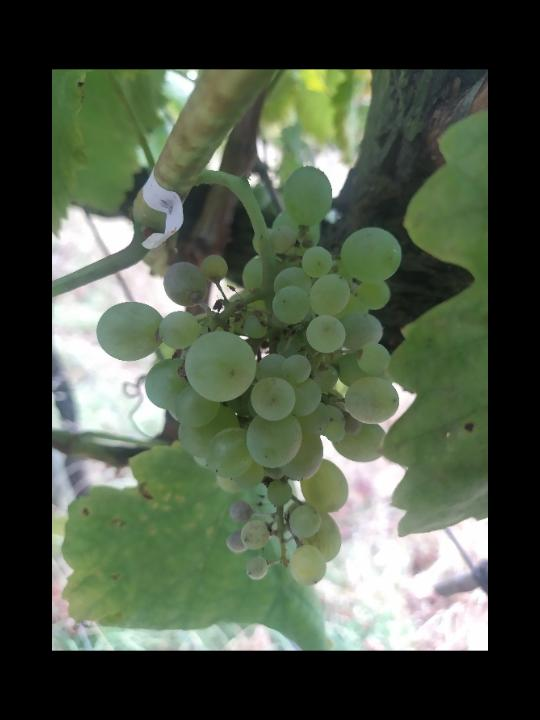grape: (95, 161, 406, 592)
